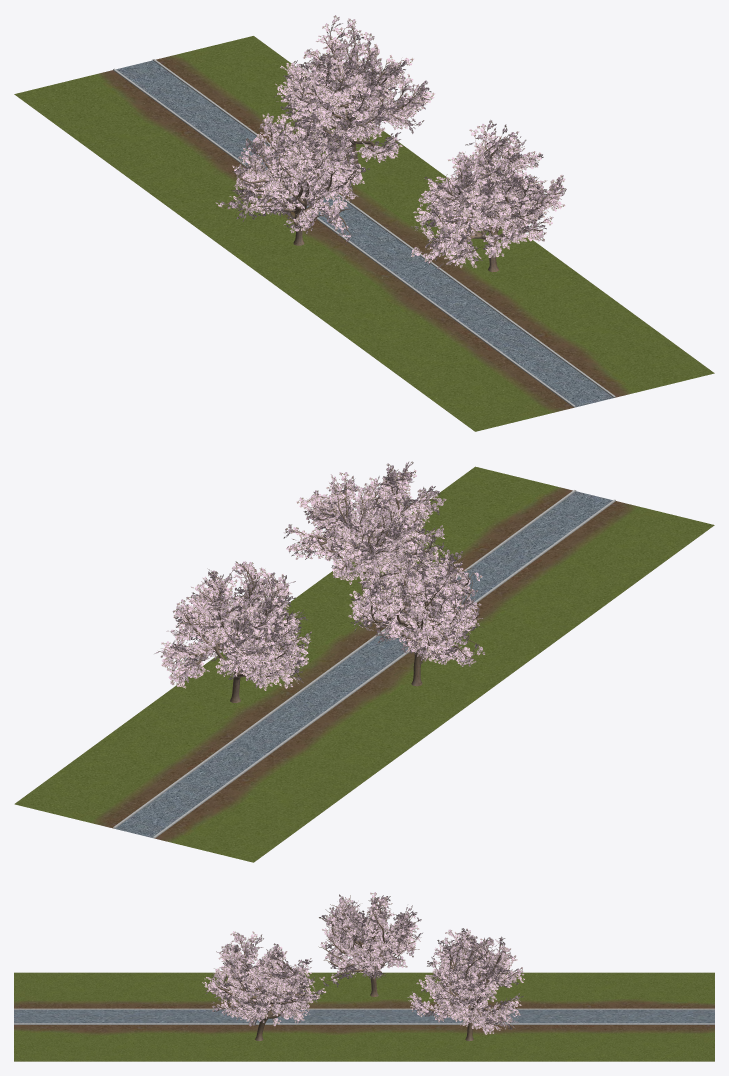
Rendered from compressed_school_park.glb.
3 views of the same model, one above another, from view 1: azimuth 30°, elevation 25°; view 2: azimuth 150°, elevation 25°; view 3: azimuth 270°, elevation 25° (orthographic). The views are drawn at different scales.
Parts seen in each view (by area): view 1: Object_6, Object_11, Object_4, Object_10, Object_8; view 2: Object_6, Object_11, Object_4, Object_10, Object_8; view 3: Object_6, Object_11, Object_4, Object_10, Object_8.
Part boxes in pixels (x1,y1,x2,y2): Object_6: [14, 36, 714, 431]; Object_11: [215, 15, 566, 268]; Object_4: [116, 60, 614, 407]; Object_10: [222, 25, 565, 272]; Object_8: [113, 59, 615, 407]; Object_6: [14, 466, 714, 862]; Object_11: [154, 461, 485, 690]; Object_4: [114, 491, 612, 838]; Object_10: [158, 468, 483, 702]; Object_8: [113, 490, 615, 838]; Object_6: [14, 972, 714, 1061]; Object_11: [202, 892, 524, 1034]; Object_4: [14, 1010, 714, 1023]; Object_10: [208, 895, 516, 1041]; Object_8: [14, 1008, 714, 1024].
Size of the model in its own units: 26.19 by 13.26 by 80.
Materials: 5 (5 with a texture image).
